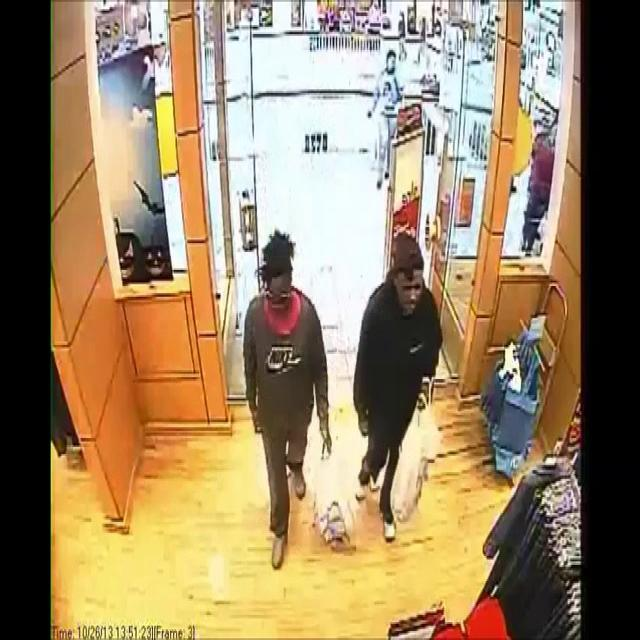normal: (239, 210, 345, 584), (352, 198, 454, 577)
